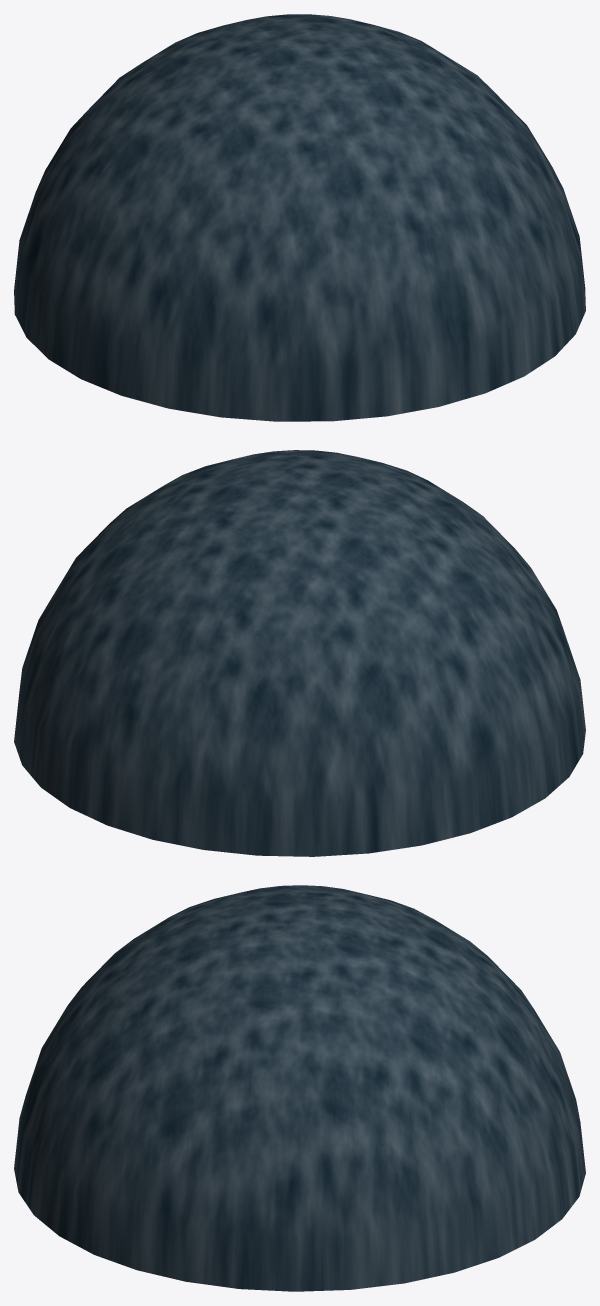
File: Title_Backgorund.FBX
The picture shows the model from 3 angles, top to bottom: view 1: azimuth 30°, elevation 25°; view 2: azimuth 150°, elevation 25°; view 3: azimuth 270°, elevation 25°; orthographic projection.
Visible parts, largest first — view 1: Sphere001; view 2: Sphere001; view 3: Sphere001.
Part boxes in pixels (left/top/right/bottom): Sphere001: left=14, top=14, right=585, bottom=421; Sphere001: left=14, top=450, right=585, bottom=856; Sphere001: left=14, top=885, right=585, bottom=1291.
Bounding box in the file's own units: 2256 × 1128 × 2256.
